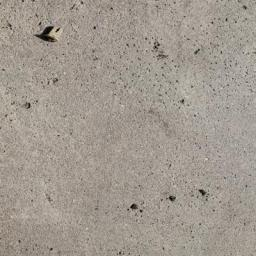FOD: (34, 25, 65, 45)
